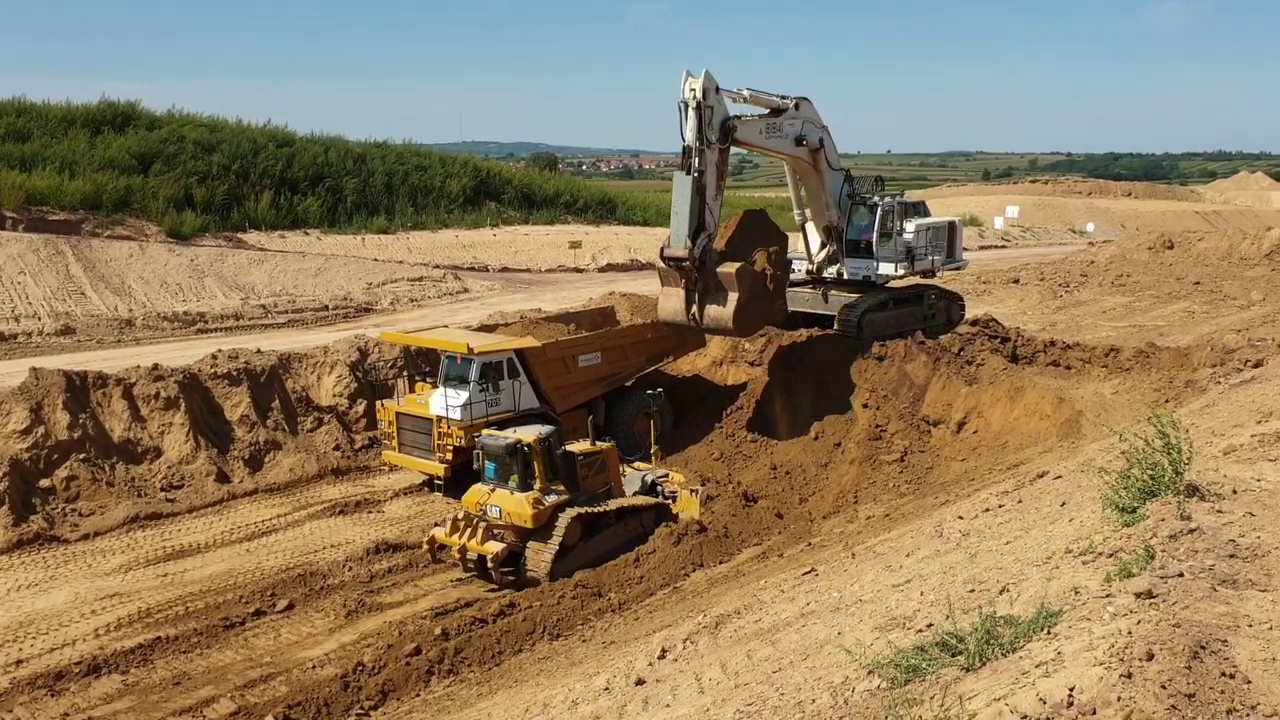bulldozer: (423, 385, 706, 593)
excavator: (654, 61, 970, 350)
truck: (361, 300, 715, 498)
